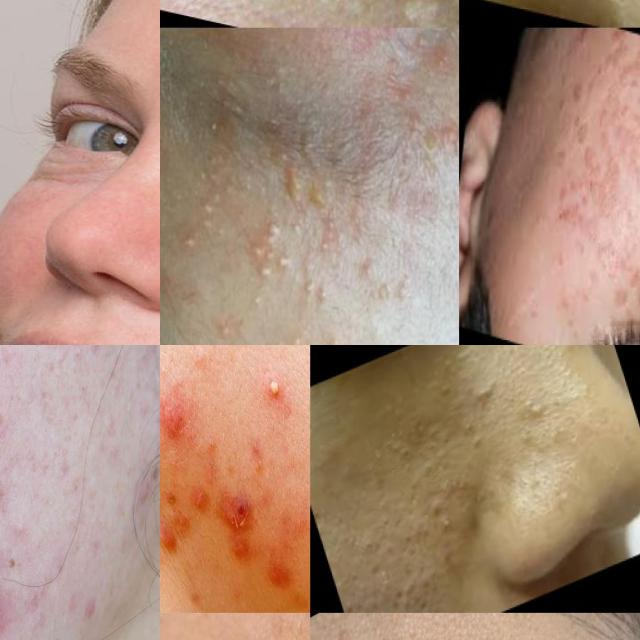comedone: (393, 502, 473, 599), (426, 404, 495, 488), (239, 207, 297, 287), (374, 416, 424, 479), (364, 565, 424, 613), (510, 383, 549, 432), (336, 572, 370, 613)
flat_wart: (556, 136, 626, 262), (581, 27, 640, 169), (620, 95, 640, 216)
folliculitis: (249, 351, 298, 428)
milium: (394, 0, 441, 21)
papule: (160, 478, 217, 567), (160, 389, 197, 464)
sebo-crystan-conglo: (218, 482, 257, 547)
